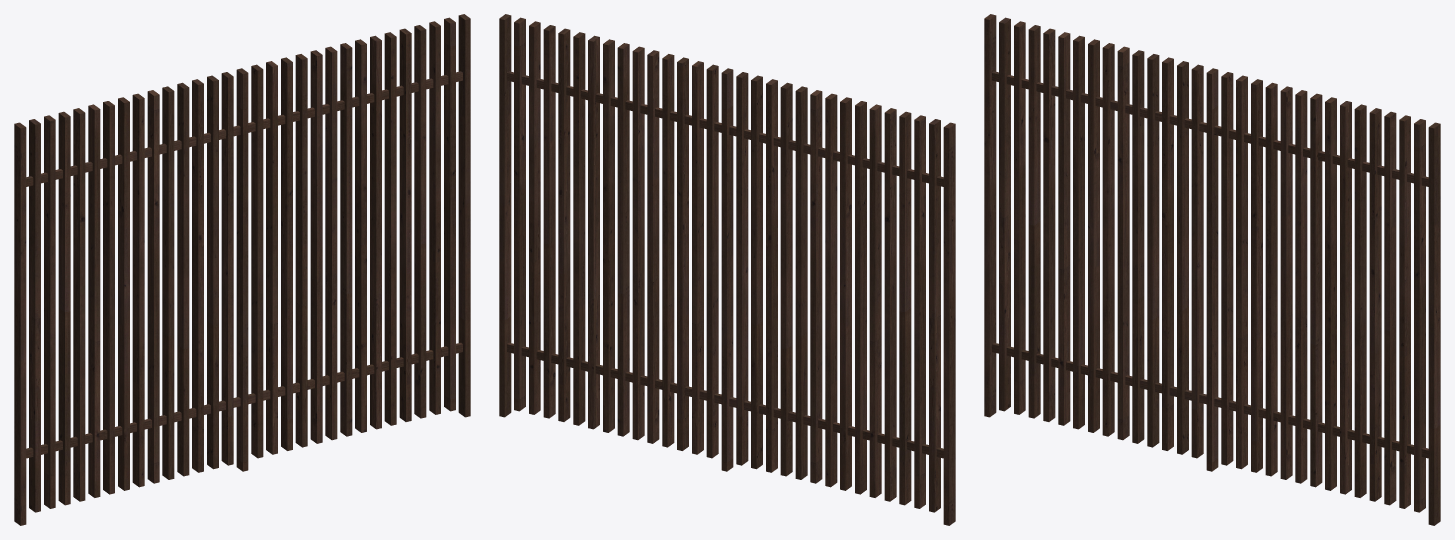
File: sg-reversible-s50_h2000_darkpine.fbx
3 views of the same model, side by side, from view 1: azimuth 30°, elevation 25°; view 2: azimuth 150°, elevation 25°; view 3: azimuth 330°, elevation 25° (orthographic).
Parts seen in each view (by area): view 1: sg-reversible-s50_h2000_darkpine_2span; view 2: sg-reversible-s50_h2000_darkpine_2span; view 3: sg-reversible-s50_h2000_darkpine_2span.
Boxes of the visible parts, x1=… form: sg-reversible-s50_h2000_darkpine_2span: x1=14, y1=14, x2=470, y2=525; sg-reversible-s50_h2000_darkpine_2span: x1=499, y1=14, x2=955, y2=525; sg-reversible-s50_h2000_darkpine_2span: x1=984, y1=14, x2=1440, y2=525.
Size of the model in its own units: 243 by 205 by 6.
Materials: 1 (1 with a texture image).
